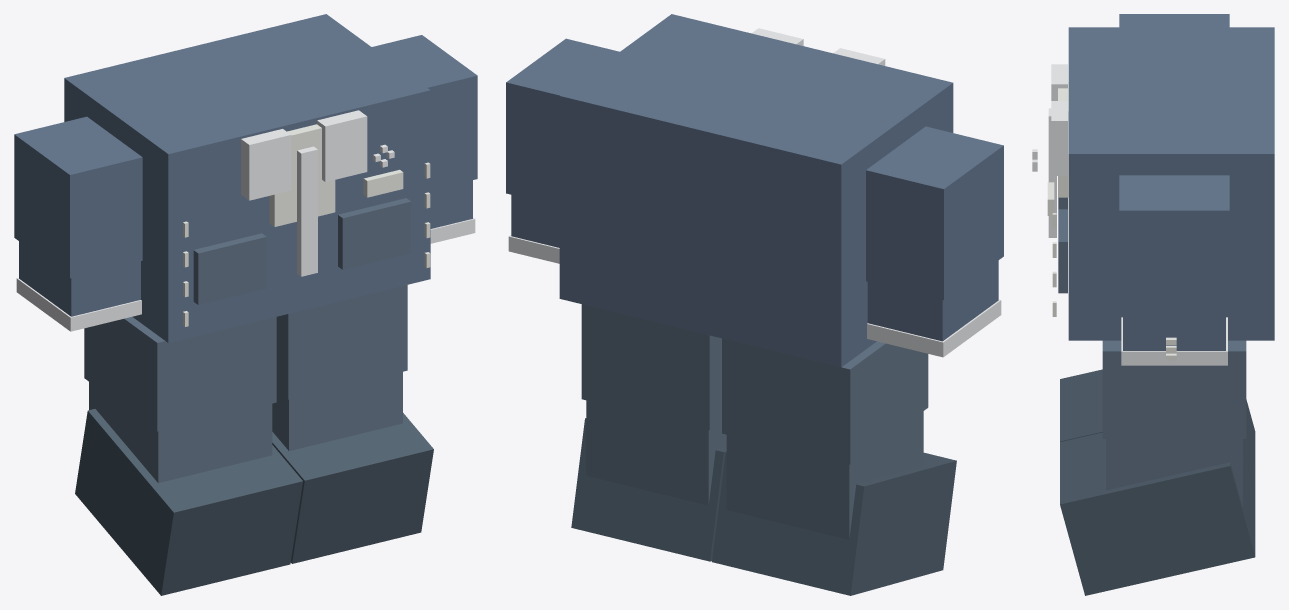
Rendered from business-navy.glb.
3 views of the same model, side by side, from view 1: azimuth 30°, elevation 25°; view 2: azimuth 150°, elevation 25°; view 3: azimuth 270°, elevation 25° (orthographic). The views are drawn at different scales.
Parts seen in each view (by area): view 1: jacket, shoe-Right, upper-sleeve-Right, trouser-Right, shoe-Left, trouser-Left, lower-trouser-Right, upper-sleeve-Left, lower-trouser-Left, lower-sleeve-Right, pocket--1, pocket-1 (+8 smaller); view 2: jacket, upper-sleeve-Right, trouser-Right, shoe-Right, trouser-Left, lower-trouser-Right, lower-trouser-Left, upper-sleeve-Left, shoe-Left, lower-sleeve-Right, cuff-Right, lower-sleeve-Left (+1 smaller); view 3: jacket, shoe-Left, upper-sleeve-Left, trouser-Left, lower-trouser-Left, lower-sleeve-Left, shoe-Right, cuff-Left, upper-sleeve-Right, lapel-1, pocket-1, tie (+2 smaller).
Part boxes in pixels (x1=…): jacket: x1=64, y1=14, x2=430, y2=342; shoe-Right: x1=75, y1=409, x2=302, y2=595; upper-sleeve-Right: x1=14, y1=116, x2=142, y2=278; trouser-Right: x1=84, y1=317, x2=276, y2=431; shoe-Left: x1=272, y1=413, x2=433, y2=563; trouser-Left: x1=276, y1=285, x2=407, y2=399; lower-trouser-Right: x1=89, y1=382, x2=272, y2=482; upper-sleeve-Left: x1=372, y1=35, x2=477, y2=190; lower-trouser-Left: x1=272, y1=372, x2=402, y2=451; lower-sleeve-Right: x1=19, y1=241, x2=140, y2=316; pocket--1: x1=193, y1=233, x2=266, y2=304; pocket-1: x1=338, y1=198, x2=411, y2=269; jacket: x1=559, y1=14, x2=953, y2=367; upper-sleeve-Right: x1=866, y1=126, x2=1003, y2=300; trouser-Right: x1=722, y1=338, x2=928, y2=464; shoe-Right: x1=712, y1=452, x2=956, y2=595; trouser-Left: x1=581, y1=304, x2=721, y2=430; lower-trouser-Right: x1=726, y1=411, x2=923, y2=539; lower-trouser-Left: x1=586, y1=400, x2=726, y2=505; upper-sleeve-Left: x1=506, y1=38, x2=619, y2=206; shoe-Left: x1=571, y1=418, x2=726, y2=561; lower-sleeve-Right: x1=867, y1=260, x2=998, y2=341; cuff-Right: x1=867, y1=299, x2=1001, y2=357; lower-sleeve-Left: x1=511, y1=195, x2=559, y2=247; jacket: x1=1068, y1=27, x2=1274, y2=340; shoe-Left: x1=1060, y1=432, x2=1255, y2=595; upper-sleeve-Left: x1=1119, y1=175, x2=1229, y2=312; trouser-Left: x1=1102, y1=340, x2=1246, y2=438; lower-trouser-Left: x1=1106, y1=439, x2=1242, y2=507; lower-sleeve-Left: x1=1123, y1=312, x2=1225, y2=350; shoe-Right: x1=1060, y1=369, x2=1255, y2=493; cuff-Left: x1=1121, y1=317, x2=1227, y2=365; upper-sleeve-Right: x1=1119, y1=14, x2=1229, y2=27; lapel-1: x1=1051, y1=101, x2=1067, y2=175; pocket-1: x1=1058, y1=209, x2=1067, y2=293; tie: x1=1048, y1=108, x2=1056, y2=237.
Bounding box in the file's own units: 1.08 × 1.13 × 0.559.
